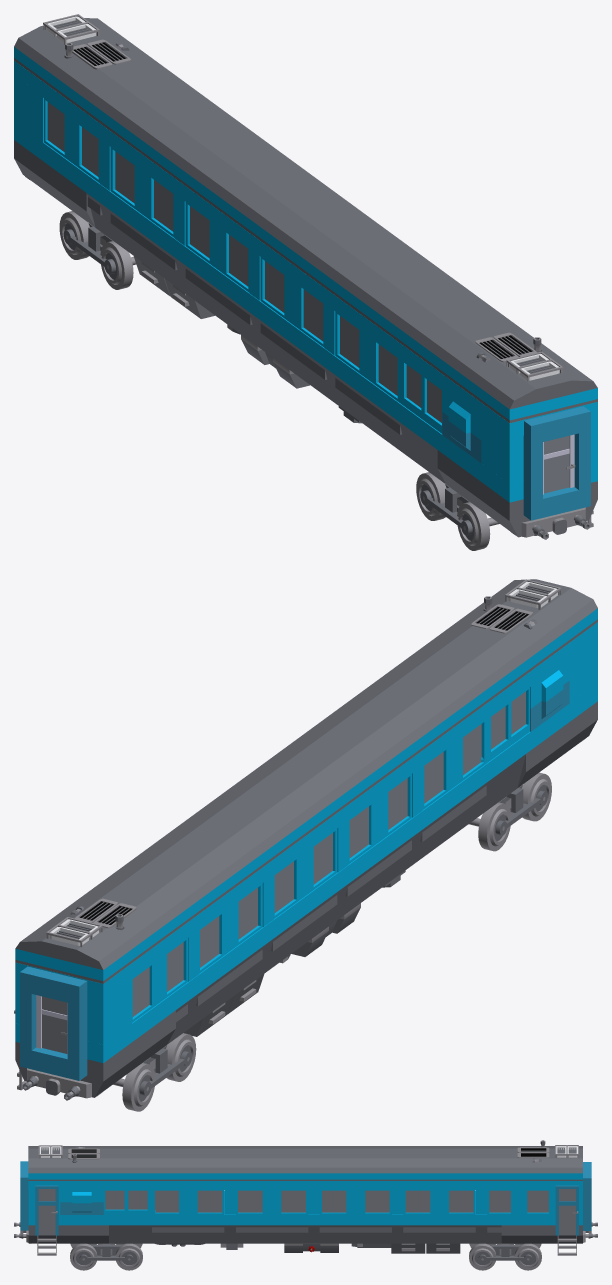
File: paxcar.glb
3 views of the same model, one above another, from view 1: azimuth 30°, elevation 25°; view 2: azimuth 150°, elevation 25°; view 3: azimuth 270°, elevation 25° (orthographic). The views are drawn at different scales.
Parts seen in each view (by area): view 1: hull, body_edge, block_blueSteel(Clone)_0_5, block_tube_custom10(Clone)_0_1, 04_Monorail_Cart_Passenger_01, block_blueSteel(Clone)_0_6, 04_Monorail_Cart_Cockpit_01, body_detail, 04_Monorail_Cart_Passenger_01_glass(Clone)_0_1, 04_Monorail_Cart_Passenger_01_glass(Clone)_0_2, 04_Monorail_Cart_Passenger_01_glass(Clone)_0_4, body_standard_dark(Clone)_0_1 (+16 smaller); view 2: hull, body_edge, block_blueSteel(Clone)_0_5, block_tube, 04_Monorail_Cart_Passenger_01, body_standard, block_blueSteel(Clone)_0_4, 04_Monorail_Cart_Cockpit_01, body_detail, 04_Monorail_Cart_Passenger_01_glass(Clone)_0_2, 04_Monorail_Cart_Passenger_01_glass(Clone)_0_1, 04_Monorail_Cart_Passenger_01_glass(Clone)_0_4 (+16 smaller); view 3: hull, body_edge, block_blueSteel(Clone)_0_5, 04_Monorail_Cart_Passenger_01, 04_Monorail_Cart_Cockpit_01, door, 04_Monorail_Cart_Passenger_01_glass(Clone)_0_2, 04_Monorail_Cart_Passenger_01_glass(Clone)_0_1, 04_Monorail_Cart_Passenger_01_glass(Clone)_0_4, body_detail, 04_Monorail_Cart_Passenger_01_glass(Clone)_0_3, 04_Monorail_Cart_Passenger_01_blueSteel(Clone)_0_1 (+27 smaller).
Part boxes in pixels (bbox=[...]): hull: bbox=[14, 18, 597, 422]; body_edge: bbox=[43, 142, 489, 516]; block_blueSteel(Clone)_0_5: bbox=[14, 60, 597, 438]; block_tube_custom10(Clone)_0_1: bbox=[523, 406, 590, 520]; 04_Monorail_Cart_Passenger_01: bbox=[260, 257, 327, 379]; block_blueSteel(Clone)_0_6: bbox=[481, 417, 597, 483]; 04_Monorail_Cart_Cockpit_01: bbox=[397, 357, 442, 433]; body_detail: bbox=[442, 389, 481, 462]; 04_Monorail_Cart_Passenger_01_glass(Clone)_0_1: bbox=[190, 206, 248, 286]; 04_Monorail_Cart_Passenger_01_glass(Clone)_0_2: bbox=[115, 151, 173, 231]; 04_Monorail_Cart_Passenger_01_glass(Clone)_0_4: bbox=[340, 316, 397, 395]; body_standard_dark(Clone)_0_1: bbox=[481, 481, 597, 537]; hull: bbox=[15, 579, 597, 983]; body_edge: bbox=[123, 704, 569, 1076]; block_blueSteel(Clone)_0_5: bbox=[15, 622, 597, 999]; block_tube: bbox=[20, 966, 87, 1080]; 04_Monorail_Cart_Passenger_01: bbox=[345, 774, 411, 896]; body_standard: bbox=[15, 1023, 132, 1097]; block_blueSteel(Clone)_0_4: bbox=[15, 977, 132, 1044]; 04_Monorail_Cart_Cockpit_01: bbox=[481, 687, 529, 764]; body_detail: bbox=[530, 657, 569, 731]; 04_Monorail_Cart_Passenger_01_glass(Clone)_0_2: bbox=[200, 888, 257, 967]; 04_Monorail_Cart_Passenger_01_glass(Clone)_0_1: bbox=[274, 833, 332, 912]; 04_Monorail_Cart_Passenger_01_glass(Clone)_0_4: bbox=[424, 724, 481, 803]; hull: bbox=[28, 1146, 582, 1180]; body_edge: bbox=[60, 1191, 550, 1243]; block_blueSteel(Clone)_0_5: bbox=[28, 1181, 582, 1189]; 04_Monorail_Cart_Passenger_01: bbox=[236, 1190, 308, 1232]; 04_Monorail_Cart_Cockpit_01: bbox=[103, 1190, 155, 1214]; door: bbox=[35, 1185, 58, 1235]; 04_Monorail_Cart_Passenger_01_glass(Clone)_0_2: bbox=[405, 1190, 473, 1212]; 04_Monorail_Cart_Passenger_01_glass(Clone)_0_1: bbox=[322, 1190, 389, 1212]; 04_Monorail_Cart_Passenger_01_glass(Clone)_0_4: bbox=[155, 1190, 222, 1212]; body_detail: bbox=[60, 1189, 103, 1214]; 04_Monorail_Cart_Passenger_01_glass(Clone)_0_3: bbox=[489, 1190, 548, 1212]; 04_Monorail_Cart_Passenger_01_blueSteel(Clone)_0_1: bbox=[319, 1190, 391, 1214].
Size of the model in its own units: 0.1093 by 0.2134 by 1.
